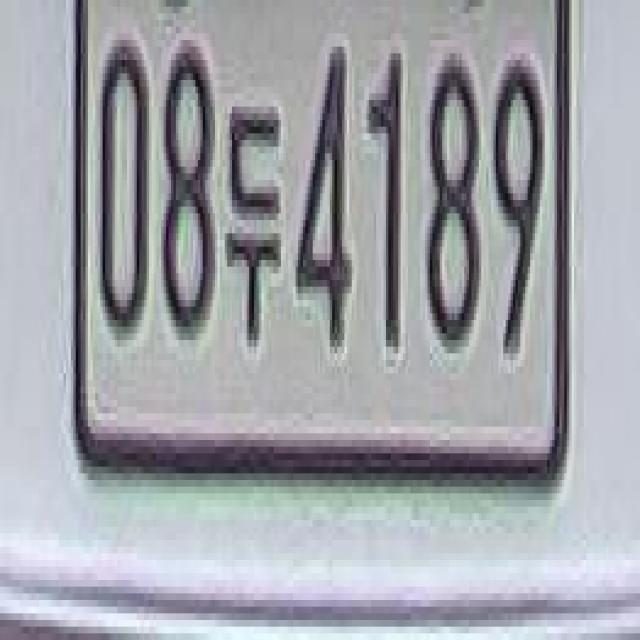illegal_plate: (70, 2, 578, 526)
